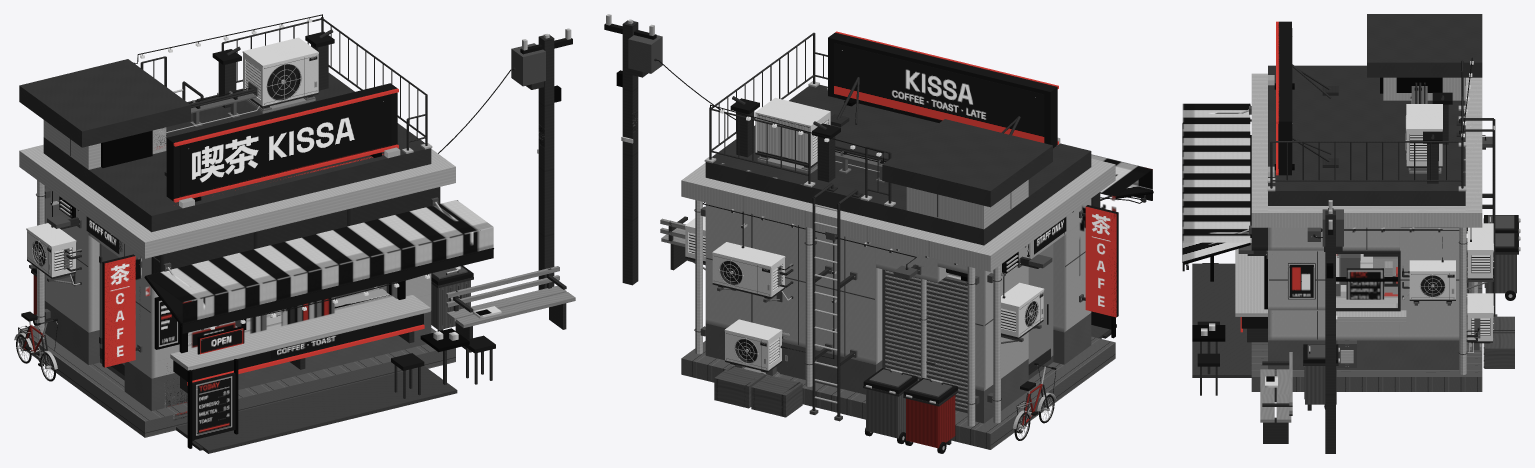
Rendered from kiosk-DTHmvbcB.glb.
The picture shows the model from 3 angles, left to right: view 1: azimuth 30°, elevation 25°; view 2: azimuth 150°, elevation 25°; view 3: azimuth 270°, elevation 25°; orthographic projection. The views are drawn at different scales.
Visible parts, largest first — view 1: body_street, glow_street, farBaked_street, glass_glass; view 2: body_street, glow_street, farBaked_street, body_glass; view 3: body_street, farBaked_street, glow_street, glass_glass, body_glass, farBaked_glass.
Boxes of the visible parts, x1,y1,x2,y2 form: body_street: [14, 14, 575, 453]; glow_street: [86, 18, 493, 436]; farBaked_street: [104, 92, 544, 419]; glass_glass: [188, 284, 388, 342]; body_street: [604, 14, 1153, 453]; glow_street: [720, 31, 1151, 317]; farBaked_street: [632, 53, 1152, 316]; body_glass: [782, 268, 967, 378]; body_street: [1182, 14, 1520, 453]; farBaked_street: [1182, 22, 1473, 339]; glow_street: [1182, 21, 1473, 332]; glass_glass: [1336, 254, 1397, 297]; body_glass: [1336, 254, 1397, 298]; farBaked_glass: [1346, 268, 1384, 299].
Size of the model in its own units: 7.94 by 4.2 by 5.13.
5 materials, 5 textured.
